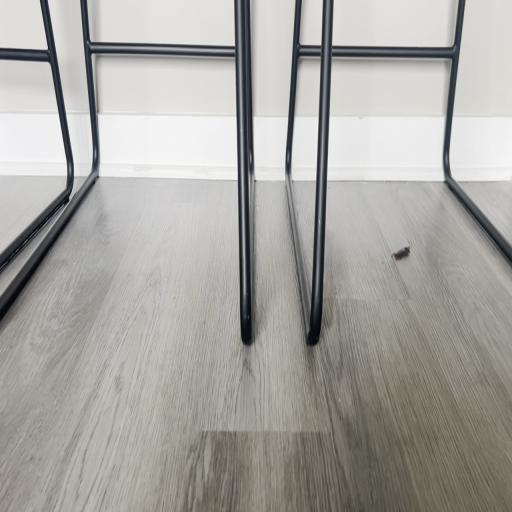cockroach: (391, 239, 412, 262)
